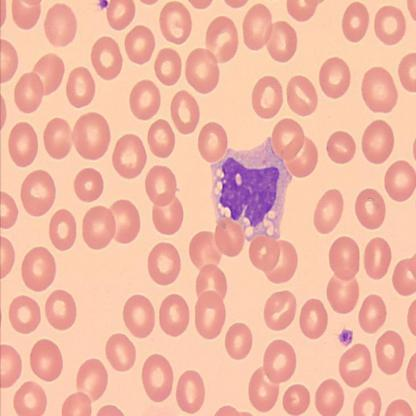Monocyte: (208, 135, 294, 245)
